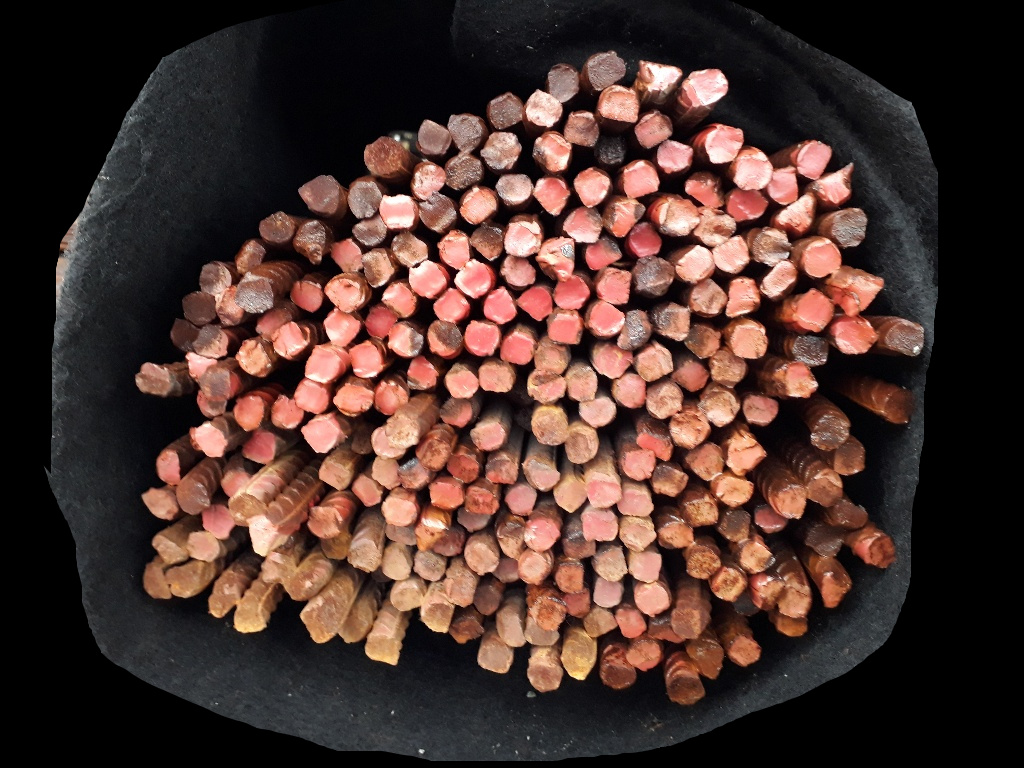dipstick: (680, 66, 728, 111), (831, 275, 884, 314), (635, 57, 681, 98), (694, 204, 736, 248), (296, 174, 342, 214), (813, 164, 854, 208), (631, 255, 675, 296), (727, 431, 768, 475), (669, 410, 713, 451), (245, 513, 289, 554), (503, 214, 543, 259), (832, 320, 880, 357), (414, 523, 466, 557), (538, 236, 577, 281), (704, 123, 746, 164), (604, 197, 646, 238), (657, 196, 699, 237), (699, 386, 740, 428), (301, 603, 342, 645), (363, 136, 406, 176), (792, 290, 833, 331), (586, 50, 628, 90), (532, 130, 572, 172), (333, 377, 375, 417), (197, 364, 245, 399), (525, 87, 564, 130), (809, 414, 852, 453), (633, 343, 676, 382), (458, 186, 499, 226), (235, 273, 276, 313), (733, 148, 772, 190), (301, 416, 343, 455), (565, 419, 600, 465), (651, 302, 691, 342), (467, 223, 508, 262), (754, 226, 793, 267), (323, 308, 364, 347), (685, 170, 727, 208), (533, 175, 570, 218), (531, 404, 568, 447), (884, 321, 928, 357), (591, 342, 635, 378), (774, 192, 814, 231), (418, 195, 458, 234), (686, 638, 725, 678), (408, 260, 446, 301), (801, 240, 842, 278), (526, 369, 569, 405), (554, 472, 590, 515), (230, 395, 269, 434), (633, 110, 673, 148), (574, 168, 612, 208), (454, 259, 492, 299), (781, 361, 819, 401), (646, 381, 686, 419), (619, 161, 660, 198), (670, 603, 711, 640), (325, 277, 367, 313), (710, 347, 746, 389), (685, 444, 728, 479), (464, 533, 499, 576), (486, 92, 525, 130), (437, 230, 475, 269), (676, 244, 714, 283), (174, 475, 212, 514), (481, 132, 521, 169), (591, 267, 631, 304), (564, 362, 601, 402), (599, 86, 640, 122), (448, 113, 484, 154), (790, 332, 831, 368), (496, 514, 528, 560), (445, 560, 475, 609), (797, 137, 831, 180), (563, 206, 602, 243), (586, 301, 625, 338), (762, 260, 799, 299), (306, 343, 343, 382), (267, 392, 306, 429), (726, 277, 762, 317), (807, 468, 843, 508), (807, 521, 847, 557), (444, 156, 486, 190), (726, 188, 769, 221), (292, 220, 324, 264), (433, 288, 471, 325), (731, 323, 768, 361), (533, 335, 571, 372), (690, 278, 726, 317), (831, 209, 867, 248), (709, 566, 748, 602), (349, 177, 382, 219), (521, 459, 563, 492), (712, 475, 755, 507), (388, 579, 431, 611), (547, 309, 584, 346), (591, 545, 628, 582), (618, 516, 656, 552), (235, 337, 271, 375), (261, 550, 297, 588), (215, 287, 250, 326), (618, 309, 652, 349), (715, 234, 748, 275), (834, 435, 866, 477), (391, 232, 428, 268), (627, 221, 664, 257), (464, 319, 500, 356), (481, 287, 516, 325), (427, 319, 462, 357), (559, 643, 594, 681), (349, 342, 387, 377), (292, 379, 330, 414), (228, 492, 266, 527), (417, 118, 451, 157), (361, 248, 394, 288), (288, 279, 325, 314), (383, 282, 418, 319), (519, 286, 554, 323), (613, 371, 648, 408), (447, 446, 482, 483), (374, 380, 411, 415), (271, 323, 308, 358), (193, 421, 228, 458), (547, 64, 581, 102), (687, 546, 725, 580), (493, 173, 532, 206), (499, 253, 538, 286), (133, 362, 172, 395), (165, 564, 204, 597), (565, 111, 600, 147), (379, 194, 414, 230), (685, 324, 721, 359), (772, 484, 807, 520), (743, 392, 779, 427), (575, 398, 617, 428), (242, 428, 277, 464), (500, 330, 534, 367), (445, 362, 479, 399), (672, 358, 709, 392), (633, 582, 670, 616), (496, 610, 530, 647), (181, 291, 218, 325), (593, 133, 631, 166), (192, 325, 230, 358), (412, 550, 451, 582), (884, 387, 915, 427), (469, 421, 509, 452), (484, 450, 519, 485), (318, 457, 353, 492), (413, 165, 447, 201), (363, 304, 397, 340), (518, 551, 552, 587), (526, 516, 560, 552), (414, 436, 448, 472), (635, 430, 672, 463), (581, 508, 618, 541), (829, 499, 867, 531), (447, 614, 485, 646), (418, 601, 456, 633), (370, 426, 408, 458), (365, 633, 403, 665), (385, 413, 420, 447), (350, 472, 384, 507), (256, 302, 291, 336), (658, 141, 694, 174), (259, 211, 295, 244), (650, 465, 686, 498), (614, 604, 647, 640), (626, 638, 662, 671), (372, 454, 404, 491), (645, 615, 687, 643), (666, 676, 706, 705), (389, 322, 423, 356), (407, 357, 441, 391), (329, 240, 364, 273), (740, 541, 775, 574), (553, 277, 589, 309), (464, 485, 500, 517), (438, 396, 474, 428), (307, 508, 343, 540), (716, 511, 753, 542), (528, 662, 565, 693), (382, 543, 413, 580), (397, 458, 434, 489), (821, 570, 851, 608), (582, 608, 620, 638), (770, 166, 799, 205), (657, 521, 696, 550), (523, 618, 562, 647), (144, 560, 173, 599), (479, 643, 513, 676), (169, 317, 201, 352), (142, 487, 177, 519), (349, 539, 380, 575), (235, 597, 266, 633), (208, 581, 238, 618), (754, 503, 792, 532), (380, 497, 418, 526), (471, 582, 504, 615), (627, 550, 661, 582), (531, 599, 565, 631), (505, 484, 537, 518), (338, 613, 372, 645), (586, 238, 621, 269), (865, 535, 896, 570), (621, 450, 656, 481), (727, 636, 762, 667), (203, 505, 234, 540), (186, 531, 221, 562), (282, 570, 319, 599), (616, 490, 654, 518), (150, 535, 188, 563), (198, 262, 231, 294), (777, 585, 809, 618), (684, 498, 718, 529), (457, 506, 496, 533), (235, 239, 265, 274), (479, 362, 514, 392), (585, 479, 621, 508), (601, 661, 638, 689), (428, 482, 466, 509), (184, 350, 219, 379), (555, 562, 586, 594), (353, 217, 387, 246), (154, 450, 181, 486), (194, 389, 228, 417), (562, 535, 598, 561), (561, 589, 592, 619), (592, 579, 624, 608), (758, 576, 784, 610), (320, 531, 350, 560), (383, 522, 419, 546), (774, 614, 809, 638), (492, 557, 522, 585), (221, 470, 252, 497), (350, 424, 377, 454), (734, 589, 761, 616)
